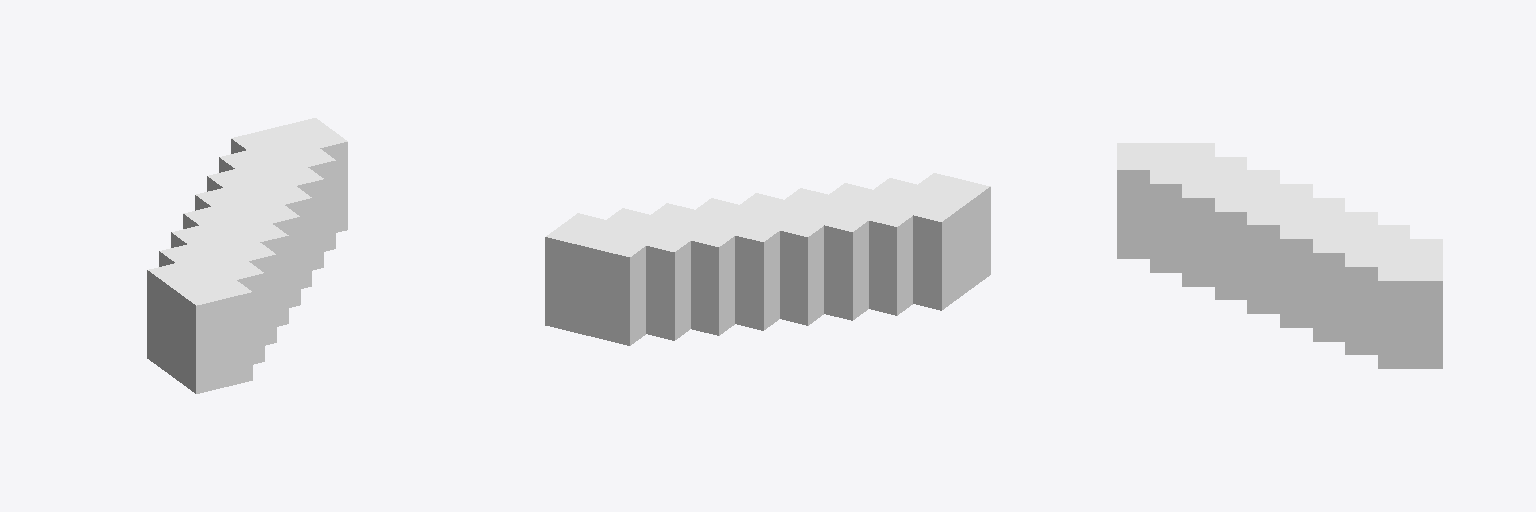
The model's file is Eruption-36.obj.
The picture shows the model from 3 angles: view 1: azimuth 30°, elevation 25°; view 2: azimuth 150°, elevation 25°; view 3: azimuth 270°, elevation 25°; orthographic projection.
Visible parts, largest first — view 1: object 1; view 2: object 1; view 3: object 1.
Part boxes in pixels (left/top/right/bottom): object 1: left=147, top=118, right=347, bottom=393; object 1: left=545, top=173, right=990, bottom=345; object 1: left=1117, top=143, right=1442, bottom=368.
Bounding box in the file's own units: 1 × 0.3 × 1.